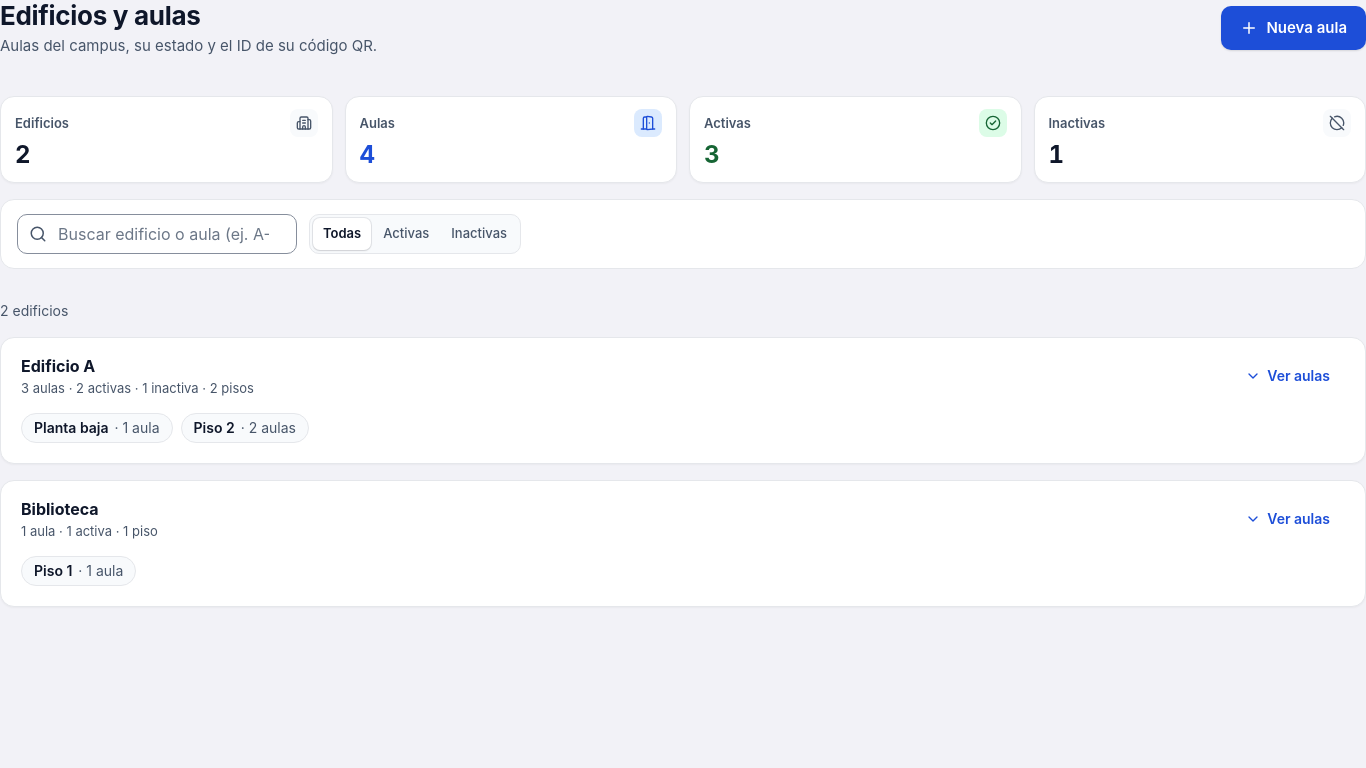
AdminEdificios › edita un aula enviando solo los campos cambiados
The width and height of the screenshot is (1366, 768).
Click the button "Ver aulas" in the row of "Edificio A" at (1288, 376), box [1230,356,1345,396]
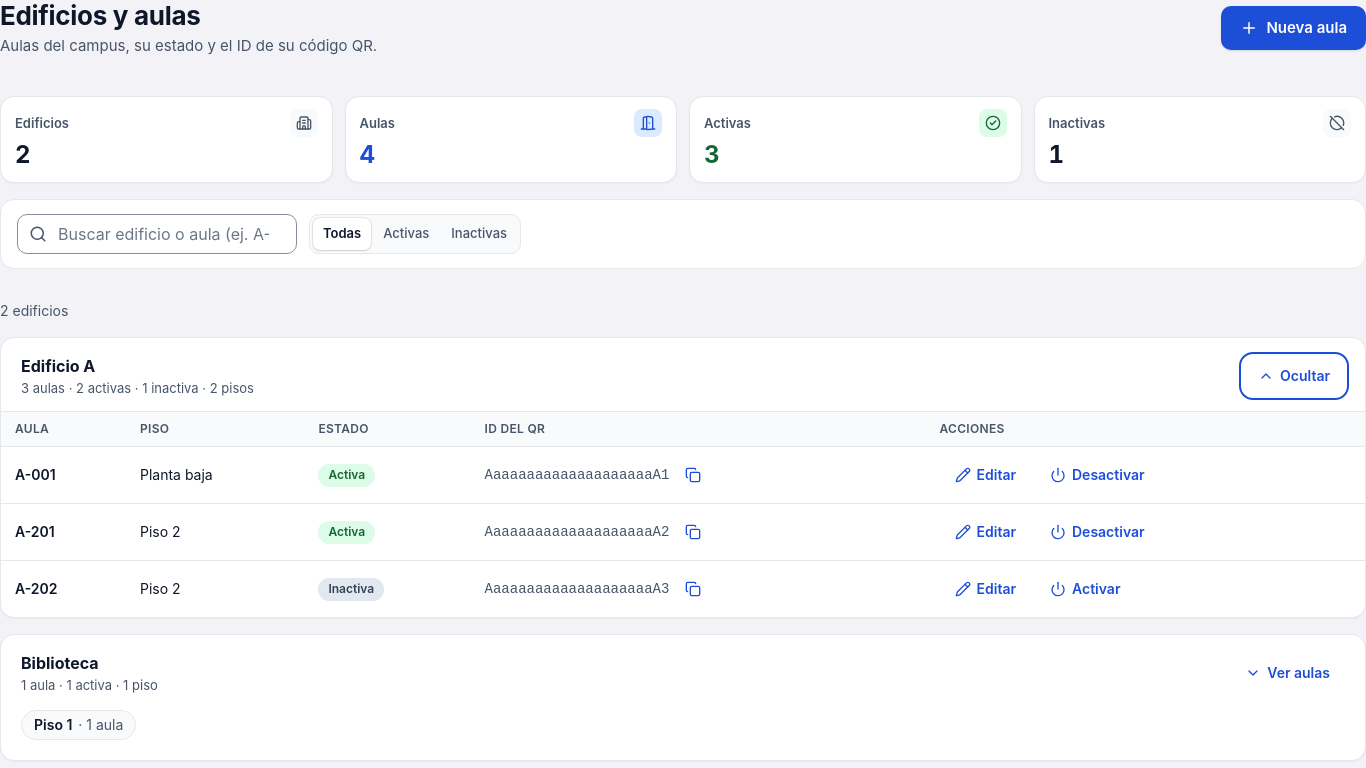
Click the button with aria-label "Editar A-201" at (985, 532), box [940,512,1031,552]
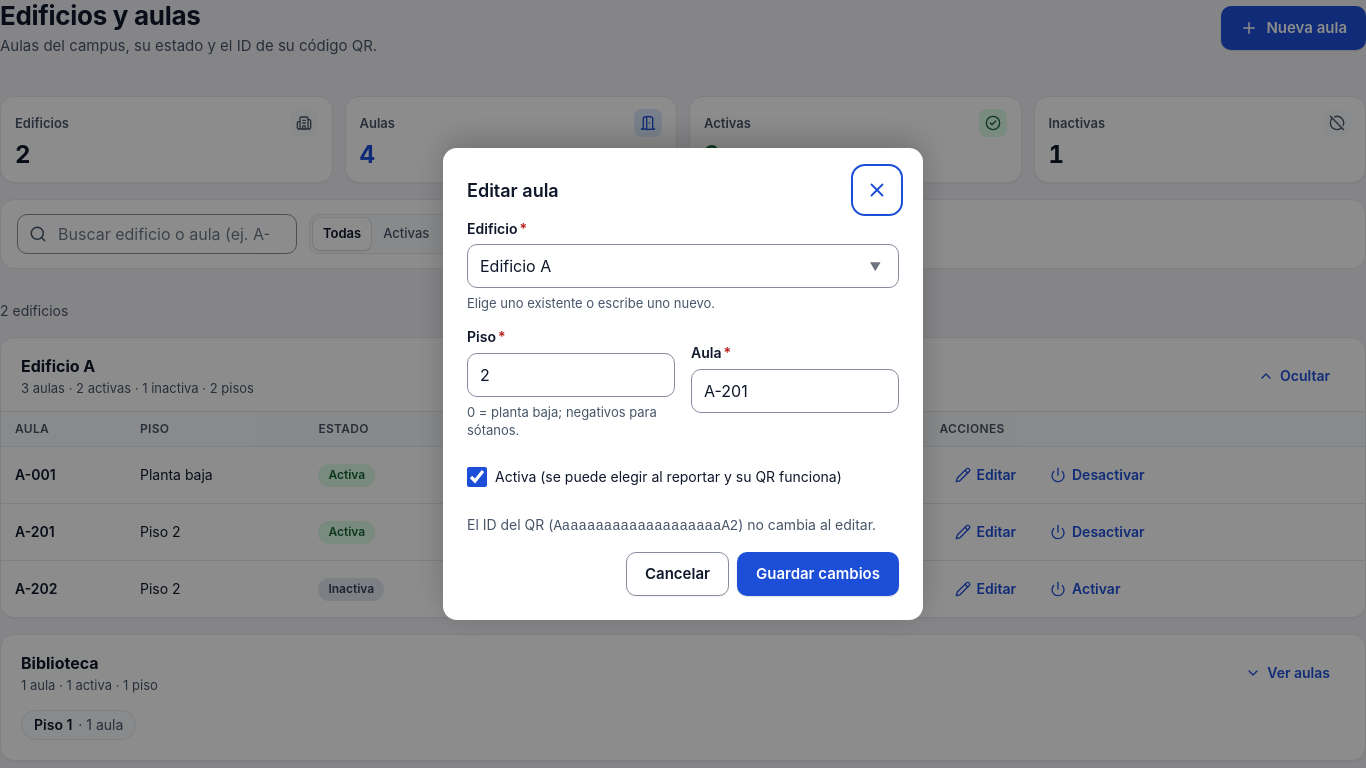
Expected: the field labelled "Aula*" holds "A-201", [691,369,899,413]
Expected: the field labelled "Edificio*" holds "Edificio A", [467,244,899,288]
Expected: the number field labelled "Piso*" holds "2", [467,353,675,397]
Click the button "Guardar cambios" at (818, 574), box [737,552,899,596]
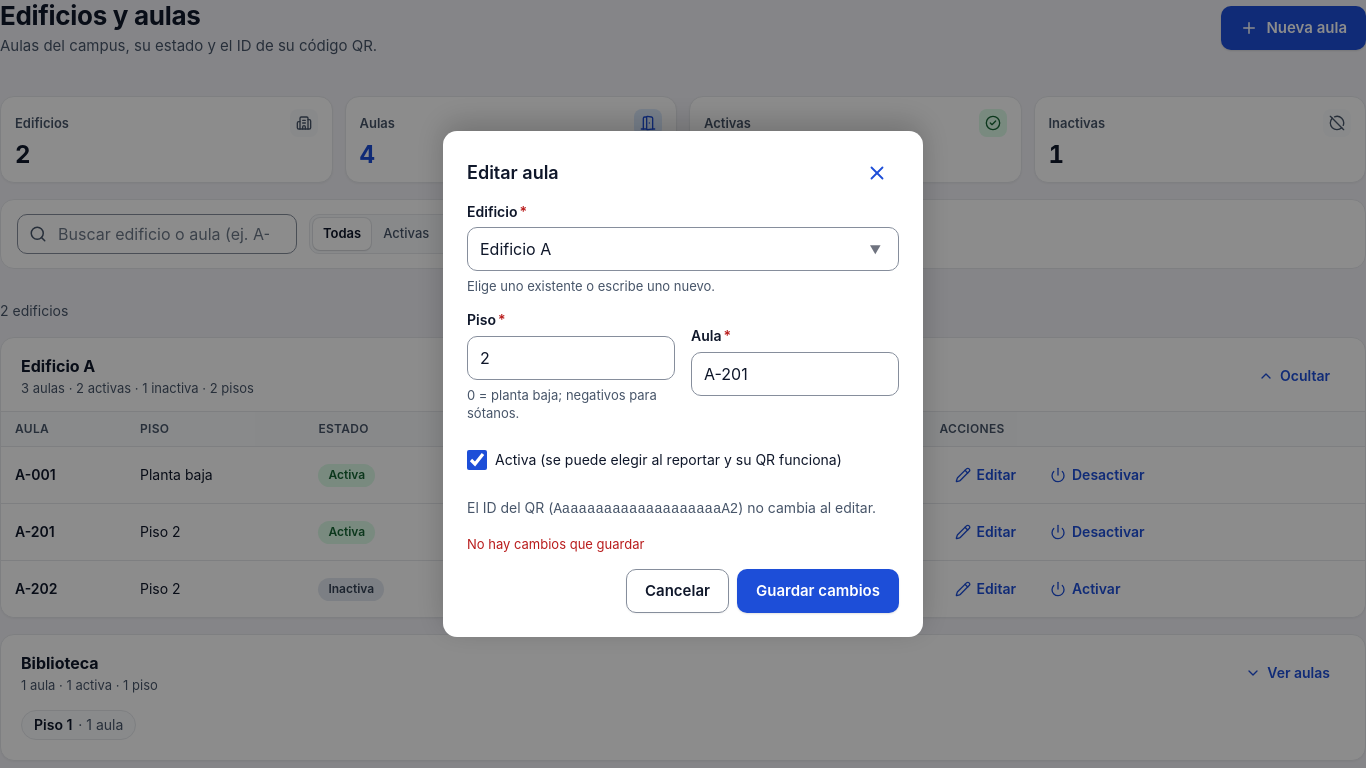
Expected: the message "No hay cambios que guardar" is shown, [467,536,644,552]
Replace the text in the field labelled "Aula*" with "A-210" at (795, 374), box [691,352,899,396]
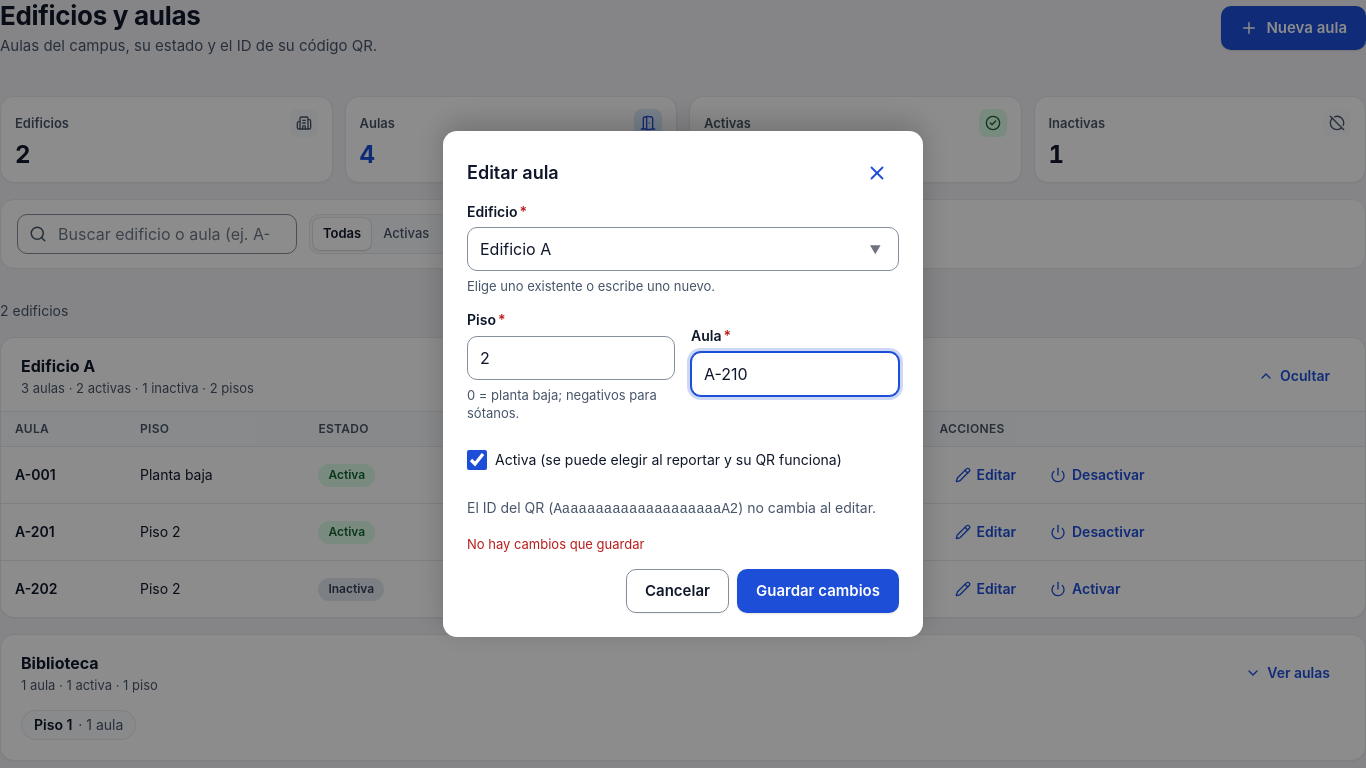
Click the button "Guardar cambios" at (818, 591), box [737,569,899,613]
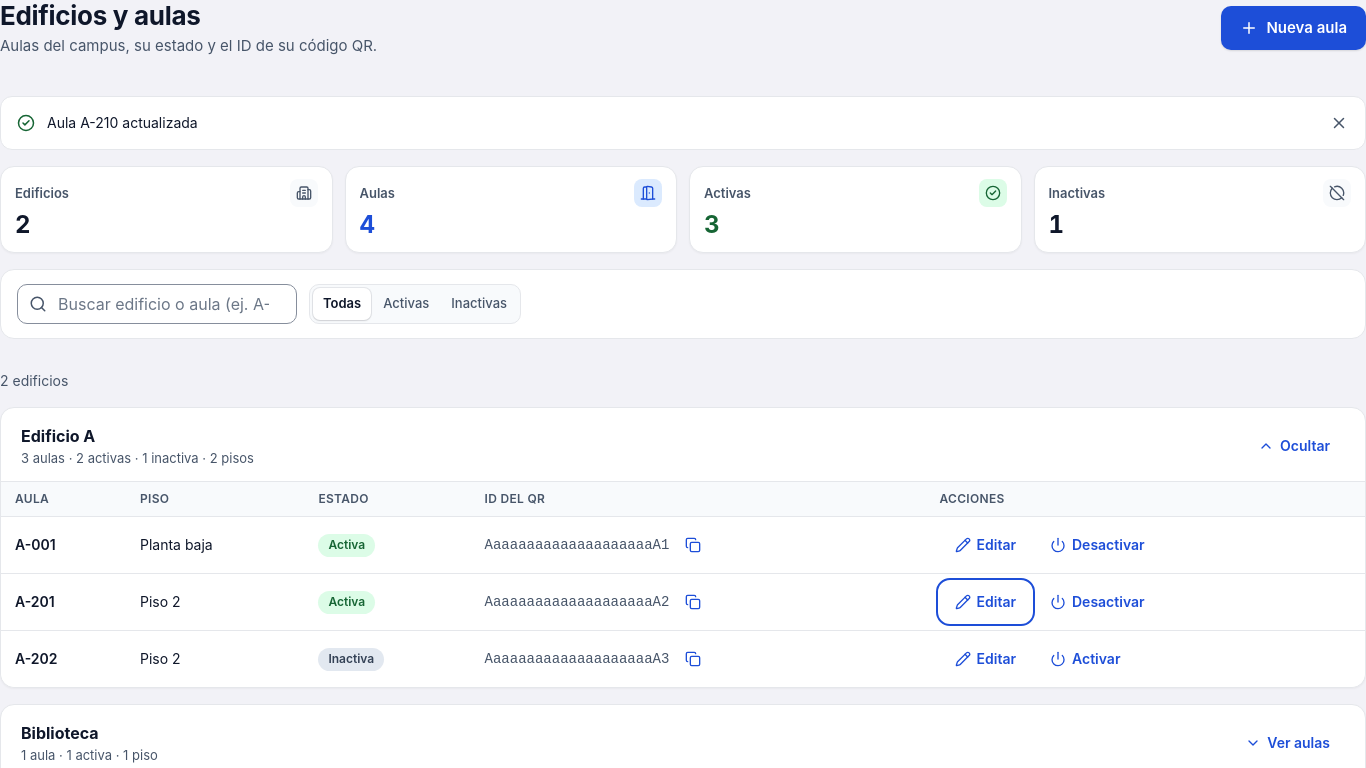
Expected: the text "Aula A-210 actualizada" is shown, [47,114,198,131]
